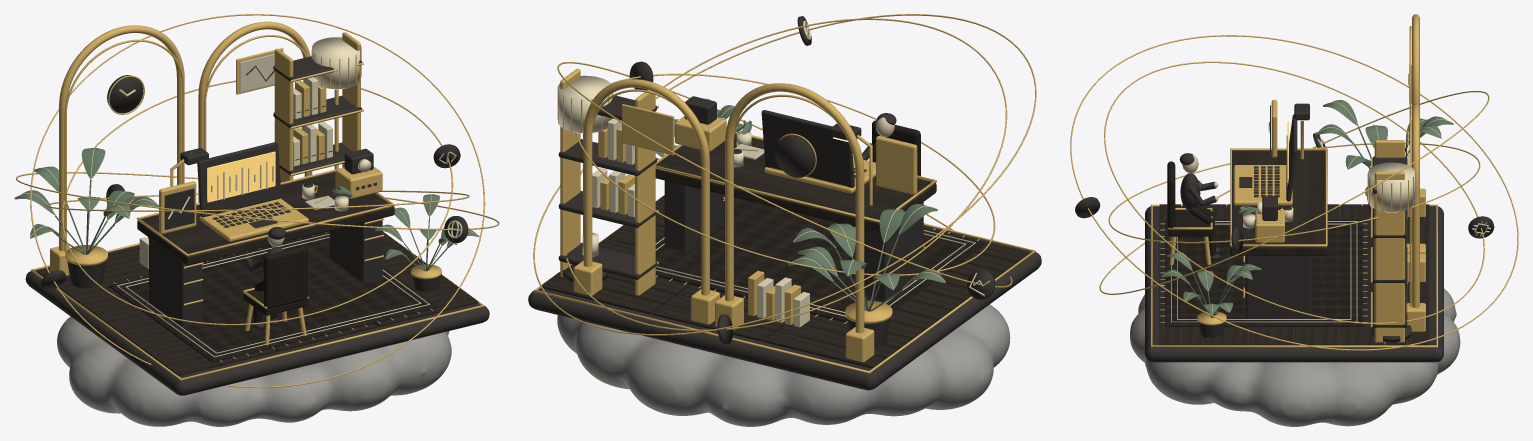
Rendered from engineering.glb.
3 views of the same model, side by side, from view 1: azimuth 30°, elevation 25°; view 2: azimuth 150°, elevation 25°; view 3: azimuth 270°, elevation 25° (orthographic). The views are drawn at different scales.
Parts seen in each view (by area): view 1: engineering_puffy_cloud, engineering_Woven charcoal_layer_0, engineering_Smoked timber_layer_0, engineering_Obsidian_layer_0, engineering_Warm brass_layer_4, engineering_Obsidian_layer_2, engineering_Warm brass_layer_3, engineering_Smoked timber_layer_3, hotspot_songsearch_Obsidian, engineering_Muted botanical green_layer_2, engineering_Woven charcoal_layer_2, orbit_plane_2_Warm brass (+24 smaller); view 2: engineering_puffy_cloud, engineering_Smoked timber_layer_0, engineering_Woven charcoal_layer_0, engineering_Warm brass_layer_4, engineering_Obsidian_layer_0, engineering_Warm brass_layer_3, engineering_Smoked timber_layer_3, engineering_Obsidian_layer_2, engineering_Warm brass_layer_1, hotspot_songsearch_Obsidian, engineering_Muted botanical green_layer_3, orbit_plane_3_Warm brass (+18 smaller); view 3: engineering_puffy_cloud, engineering_Woven charcoal_layer_0, engineering_Obsidian_layer_0, engineering_Smoked timber_layer_0, engineering_Warm brass_layer_3, engineering_Smoked timber_layer_3, engineering_Obsidian_layer_2, engineering_Warm brass_layer_4, orbit_plane_3_Warm brass, engineering_Warm brass_layer_1, orbit_plane_1_Warm brass, engineering_Ivory_layer_4 (+19 smaller).
Boxes of the visible parts, bbox=[...] form: engineering_puffy_cloud: bbox=[57, 316, 451, 426]; engineering_Woven charcoal_layer_0: bbox=[109, 232, 437, 362]; engineering_Smoked timber_layer_0: bbox=[37, 231, 477, 375]; engineering_Obsidian_layer_0: bbox=[25, 245, 489, 395]; engineering_Warm brass_layer_4: bbox=[59, 21, 363, 251]; engineering_Obsidian_layer_2: bbox=[149, 142, 382, 326]; engineering_Warm brass_layer_3: bbox=[136, 32, 394, 256]; engineering_Smoked timber_layer_3: bbox=[137, 172, 394, 265]; hotspot_songsearch_Obsidian: bbox=[197, 142, 290, 228]; engineering_Muted botanical green_layer_2: bbox=[30, 180, 479, 271]; engineering_Woven charcoal_layer_2: bbox=[264, 246, 307, 308]; orbit_plane_2_Warm brass: bbox=[30, 14, 485, 388]; engineering_puffy_cloud: bbox=[557, 304, 1010, 426]; engineering_Smoked timber_layer_0: bbox=[541, 195, 1028, 368]; engineering_Woven charcoal_layer_0: bbox=[634, 195, 984, 322]; engineering_Warm brass_layer_4: bbox=[557, 79, 864, 333]; engineering_Obsidian_layer_0: bbox=[528, 225, 1041, 390]; engineering_Warm brass_layer_3: bbox=[560, 68, 936, 295]; engineering_Smoked timber_layer_3: bbox=[655, 133, 936, 232]; engineering_Obsidian_layer_2: bbox=[558, 180, 923, 300]; engineering_Warm brass_layer_1: bbox=[573, 197, 924, 361]; hotspot_songsearch_Obsidian: bbox=[761, 110, 867, 187]; engineering_Muted botanical green_layer_3: bbox=[736, 120, 937, 290]; orbit_plane_3_Warm brass: bbox=[533, 14, 1036, 335]; engineering_puffy_cloud: bbox=[1130, 288, 1460, 426]; engineering_Woven charcoal_layer_0: bbox=[1165, 219, 1362, 326]; engineering_Obsidian_layer_0: bbox=[1145, 206, 1443, 362]; engineering_Smoked timber_layer_0: bbox=[1159, 204, 1429, 345]; engineering_Warm brass_layer_3: bbox=[1230, 121, 1404, 344]; engineering_Smoked timber_layer_3: bbox=[1230, 150, 1327, 255]; engineering_Obsidian_layer_2: bbox=[1246, 246, 1407, 318]; engineering_Warm brass_layer_4: bbox=[1367, 14, 1419, 307]; orbit_plane_3_Warm brass: bbox=[1070, 35, 1518, 350]; engineering_Warm brass_layer_1: bbox=[1168, 187, 1425, 331]; orbit_plane_1_Warm brass: bbox=[1104, 61, 1484, 324]; engineering_Ivory_layer_4: bbox=[1368, 73, 1414, 212].
Size of the model in its own units: 5.18 by 3.91 by 5.17.
11 materials, 2 textured.
